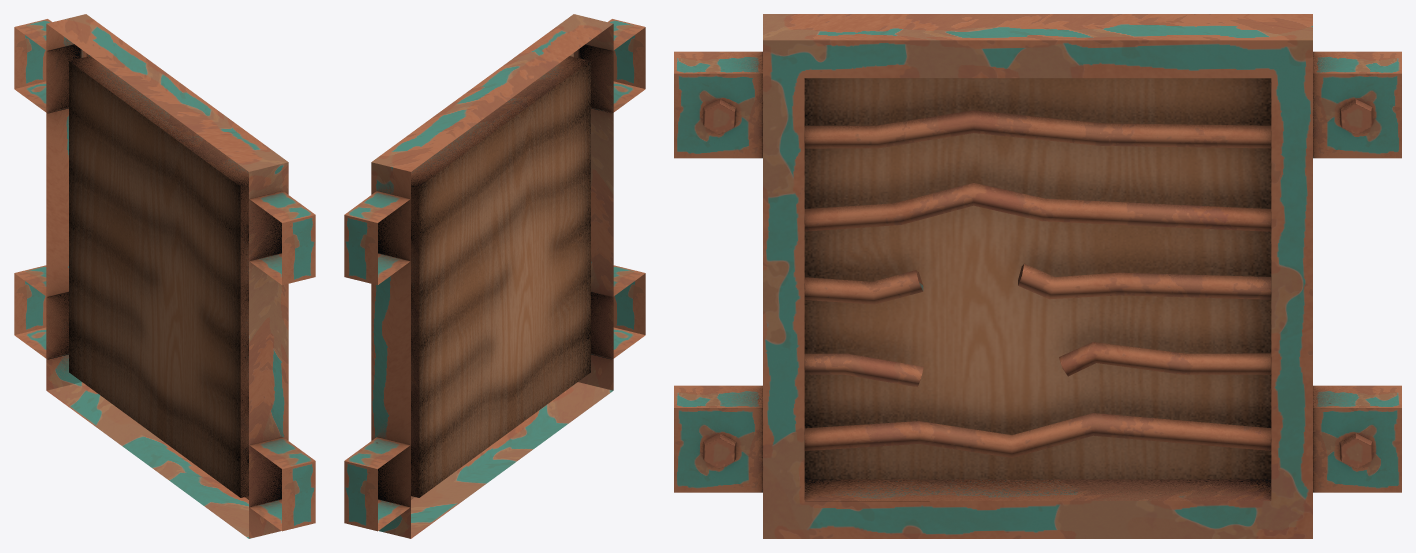
Rendered from window_1.fbx.
3 renders of one model, left to right at view 1: azimuth 30°, elevation 25°; view 2: azimuth 150°, elevation 25°; view 3: azimuth 270°, elevation 25°, orthographic. The views are drawn at different scales.
Visible parts, largest first — view 1: Window; view 2: Window; view 3: Window.
Boxes of the visible parts, x1=… form: Window: x1=14, y1=14, x2=315, y2=538; Window: x1=344, y1=14, x2=645, y2=538; Window: x1=674, y1=14, x2=1401, y2=538.
Bounding box in the file's own units: 22.68 × 200 × 265.
1 material, 1 textured.
